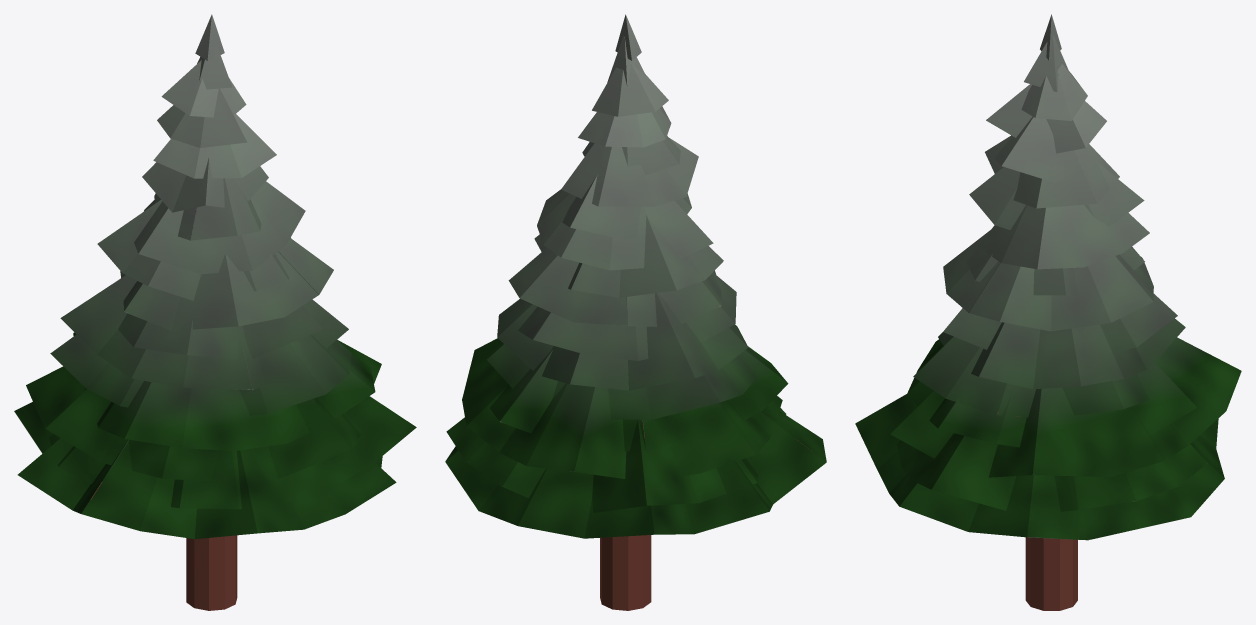
File: SmallSpineTree.fbx
3 views of the same model, side by side, from view 1: azimuth 30°, elevation 25°; view 2: azimuth 150°, elevation 25°; view 3: azimuth 270°, elevation 25° (orthographic).
Visible parts, largest first — view 1: Cylinder.009; view 2: Cylinder.009; view 3: Cylinder.009.
Boxes of the visible parts, <box> form: Cylinder.009: <box>14,14,416,610</box>; Cylinder.009: <box>445,14,826,610</box>; Cylinder.009: <box>855,14,1241,610</box>.
Size of the model in its own units: 1.98 by 3.34 by 2.
1 material, 1 textured.
